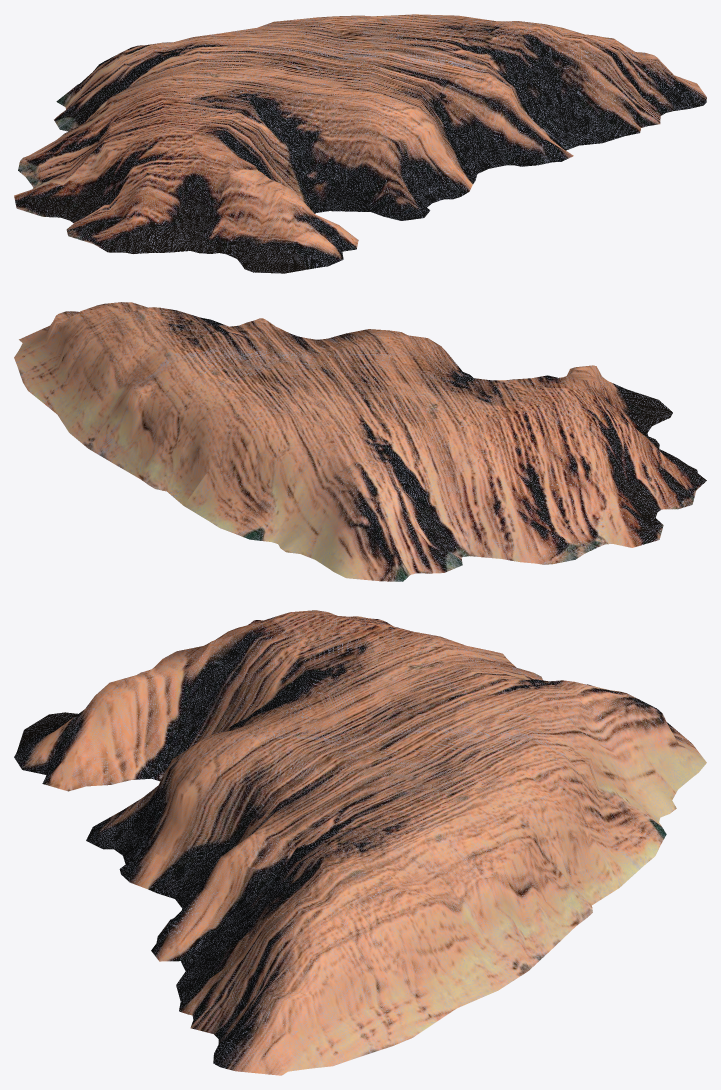
Rendered from AyersRockUluru.fbx.
3 renders of one model, top to bottom at view 1: azimuth 30°, elevation 25°; view 2: azimuth 150°, elevation 25°; view 3: azimuth 270°, elevation 25°, orthographic. The views are drawn at different scales.
Visible parts, largest first — view 1: Model; view 2: Model; view 3: Model.
Part boxes in pixels (x1,y1,x2,y2): Model: [14, 14, 706, 273]; Model: [14, 302, 706, 581]; Model: [14, 610, 706, 1075].
Bounding box in the file's own units: 2904 × 352 × 1941.
